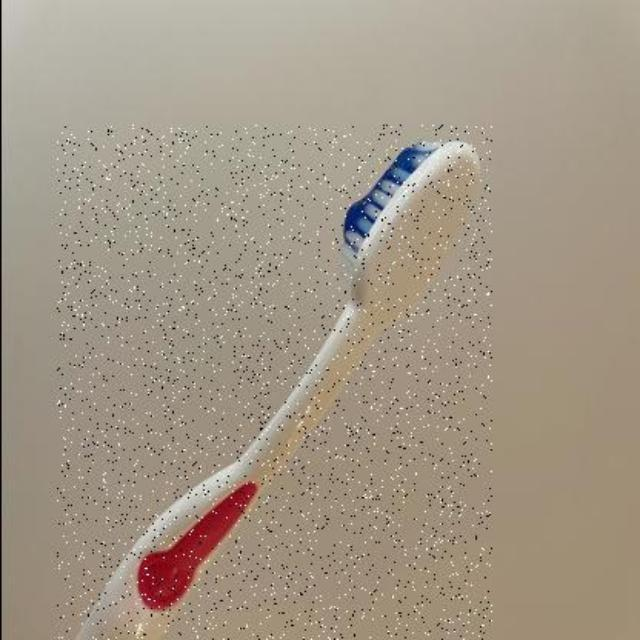toothbrush: (56, 125, 490, 640)
